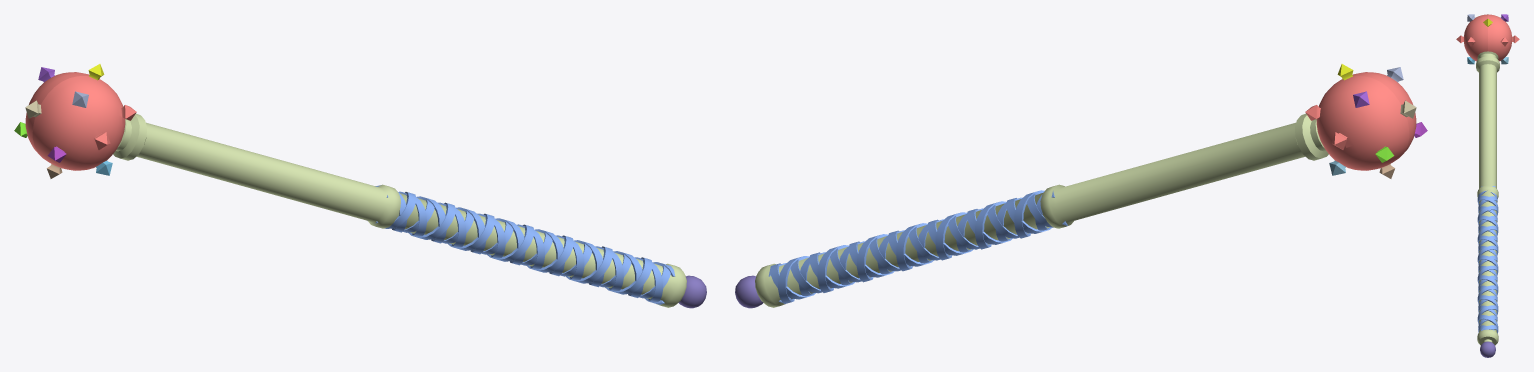
3 views of the same model, side by side, from view 1: azimuth 30°, elevation 25°; view 2: azimuth 150°, elevation 25°; view 3: azimuth 270°, elevation 25° (orthographic). The views are drawn at different scales.
Visible parts, largest first — view 1: Cube_Material_0.013, split_parent_12, split_parent_10, Cube_Material_0.016; view 2: Cube_Material_0.013, split_parent_12, split_parent_10, Cube_Material_0.016; view 3: Cube_Material_0.013, split_parent_12, split_parent_10, Cube_Material_0.016.
Boxes of the visible parts, x1,y1,x2,y2 form: Cube_Material_0.013: [113, 113, 686, 307]; split_parent_12: [375, 185, 675, 304]; split_parent_10: [25, 72, 136, 170]; Cube_Material_0.016: [678, 275, 706, 308]; Cube_Material_0.013: [755, 113, 1328, 307]; split_parent_12: [768, 190, 1067, 303]; split_parent_10: [1305, 72, 1416, 170]; Cube_Material_0.016: [735, 275, 763, 308]; Cube_Material_0.013: [1476, 51, 1499, 345]; split_parent_12: [1477, 186, 1498, 333]; split_parent_10: [1456, 14, 1519, 61]; Cube_Material_0.016: [1480, 341, 1495, 357].
Size of the model in its own units: 1 by 0.5447 by 0.1628.
